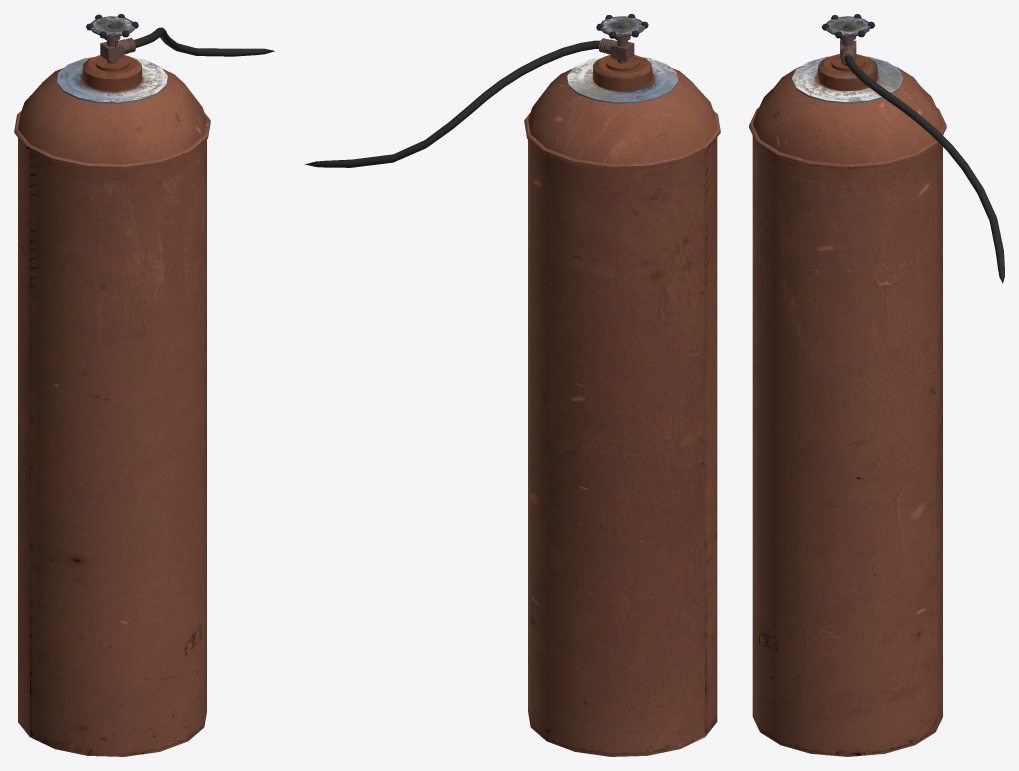
File: gas_cylinder.FBX
3 renders of one model, left to right at view 1: azimuth 30°, elevation 25°; view 2: azimuth 150°, elevation 25°; view 3: azimuth 270°, elevation 25°, orthographic.
Visible parts, largest first — view 1: gas_cylinder; view 2: gas_cylinder; view 3: gas_cylinder.
Part boxes in pixels (<box>): gas_cylinder: <box>14,14,274,756</box>; gas_cylinder: <box>304,14,720,756</box>; gas_cylinder: <box>749,14,1004,756</box>.
Size of the model in its own units: 99.94 by 203 by 67.89.
